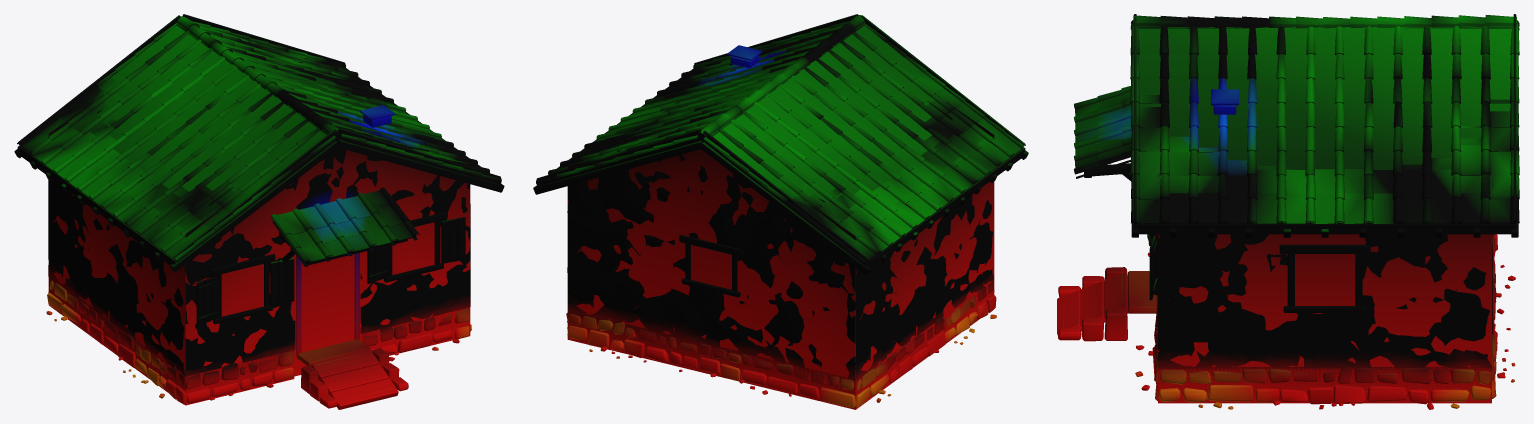
Rendered from valdora_t2_render.glb.
3 renders of one model, left to right at view 1: azimuth 30°, elevation 25°; view 2: azimuth 150°, elevation 25°; view 3: azimuth 270°, elevation 25°, orthographic. The views are drawn at different scales.
Visible parts, largest first — view 1: valdora_t2_render_shell, valdora_t2_render_far, valdora_t2_render_detail; view 2: valdora_t2_render_shell, valdora_t2_render_far, valdora_t2_render_detail; view 3: valdora_t2_render_shell, valdora_t2_render_far, valdora_t2_render_detail.
Part boxes in pixels (x1=…): valdora_t2_render_shell: x1=14, y1=14, x2=504, y2=409; valdora_t2_render_far: x1=48, y1=24, x2=470, y2=402; valdora_t2_render_detail: x1=46, y1=105, x2=459, y2=401; valdora_t2_render_shell: x1=533, y1=14, x2=1028, y2=409; valdora_t2_render_far: x1=567, y1=24, x2=994, y2=407; valdora_t2_render_detail: x1=567, y1=45, x2=996, y2=402; valdora_t2_render_shell: x1=1057, y1=14, x2=1519, y2=404; valdora_t2_render_far: x1=1138, y1=26, x2=1511, y2=400; valdora_t2_render_detail: x1=1063, y1=89, x2=1515, y2=409.
Bounding box in the file's own units: 6.99 × 5.07 × 6.93.
